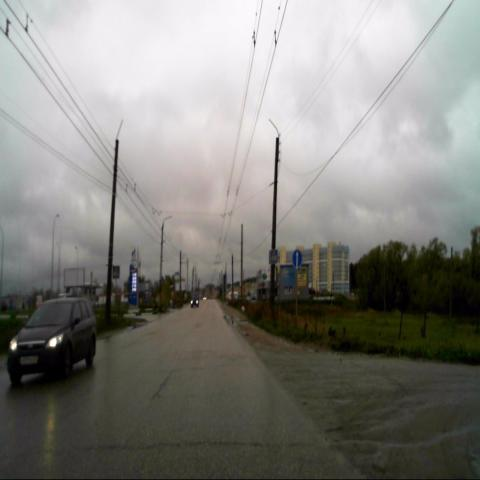4_1_1: (292, 250, 302, 268)
5_19_1: (268, 249, 278, 265)
